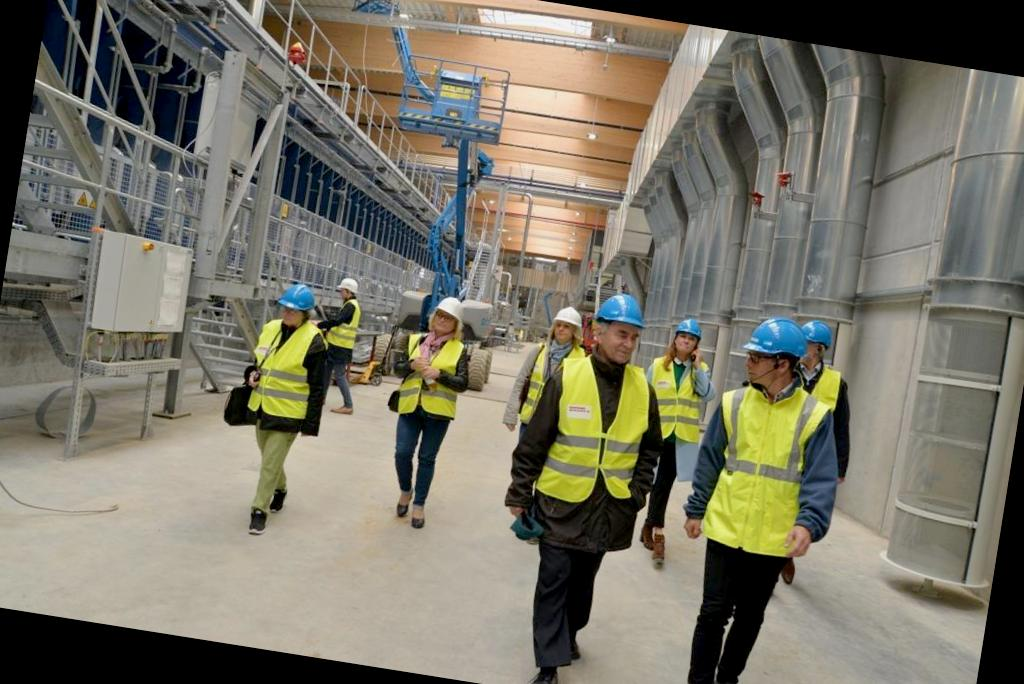helmet: (726, 300, 815, 378), (586, 288, 658, 340), (267, 268, 329, 318), (428, 289, 480, 334), (664, 316, 710, 354), (333, 270, 372, 307), (552, 300, 584, 338)
person: (469, 274, 693, 684), (645, 294, 871, 684), (202, 273, 349, 547), (360, 280, 490, 541), (610, 308, 729, 574), (302, 258, 377, 428)
